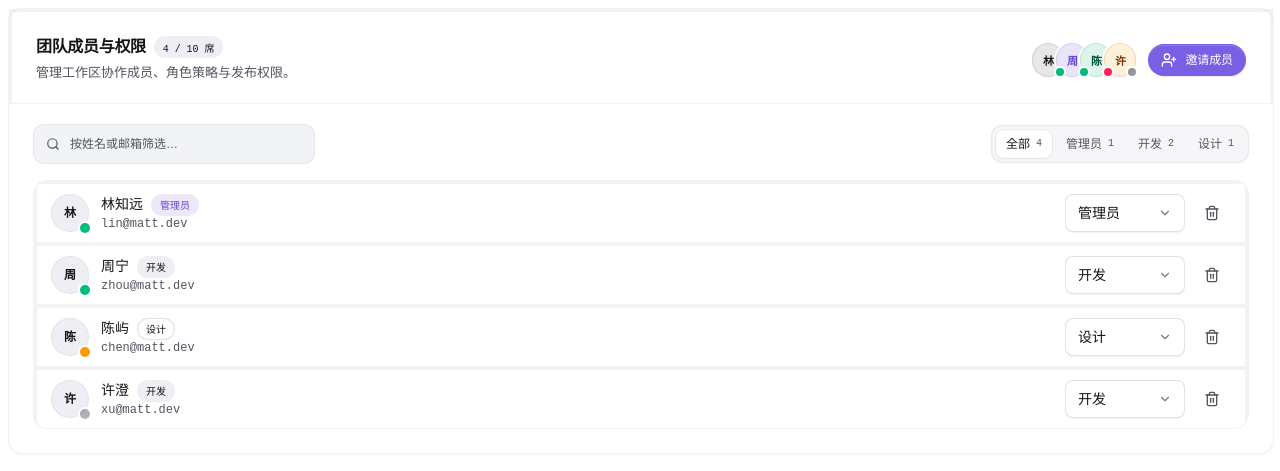
Scenario: TeamMembersBlock › 支持席位配额展示、紧凑模式与移除回调
Expected: the text "4 / 10 席" is shown, [154,36,223,58]
Click the button named "移除 许澄" at (1212, 399), box [1193,380,1231,418]
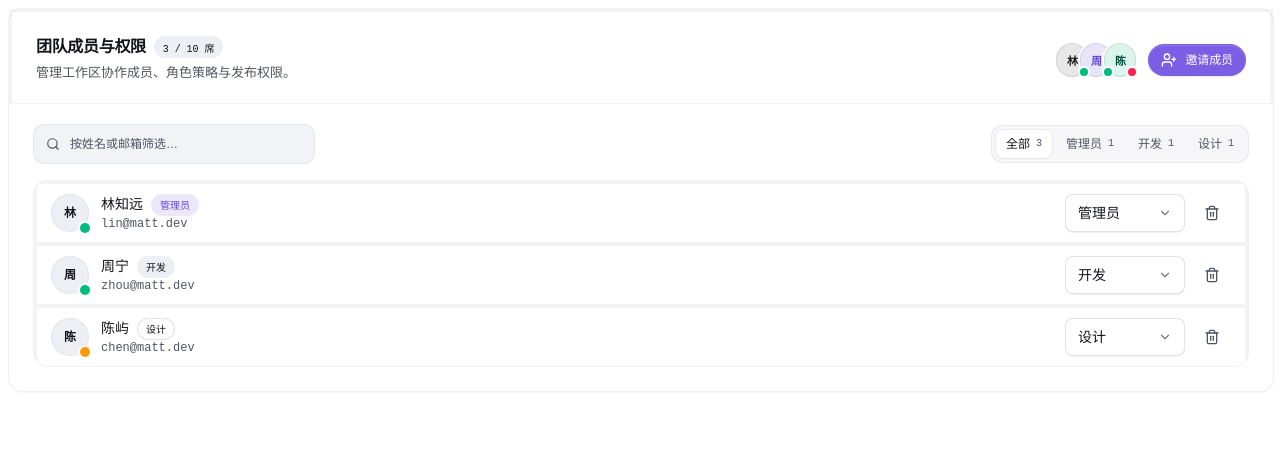
Expected: the text "3 / 10 席" is shown, [154,36,223,58]
